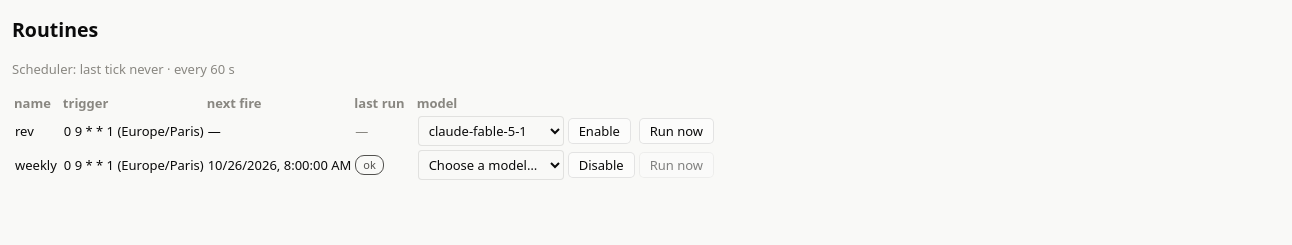
it: RoutinesSection › lists routines, toggles enable and runs now
Expected: the heading "Routines" is shown, [12,16,98,43]
Expected: the text "last tick never · every 60 s" is shown, [12,60,235,78]
Click the button "Enable": click(599, 131) [568,118,631,144]
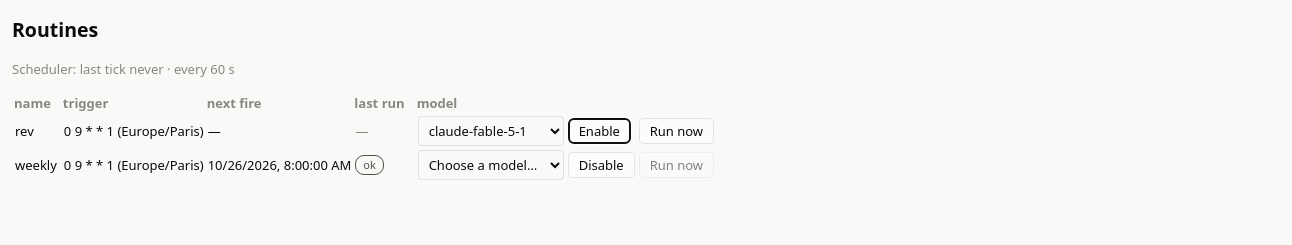
Click the button "Run now" in the row of "rev": click(676, 131) [639,118,714,144]
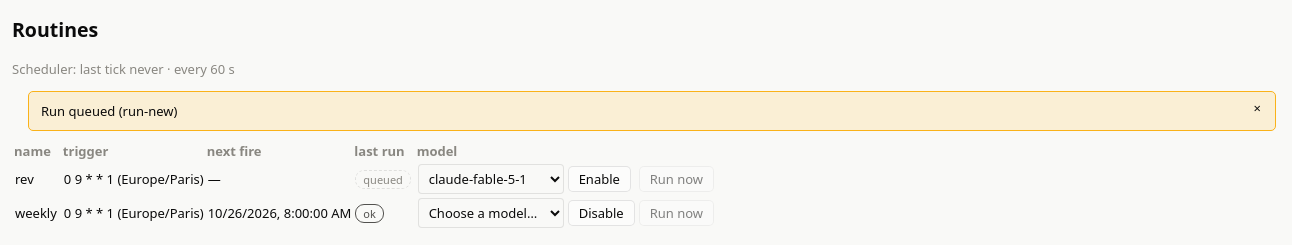
Expected: the text "queued" is shown, [355,170,411,189]
Expected: the text "Run queued (run-new)" is shown, [41,102,177,120]
